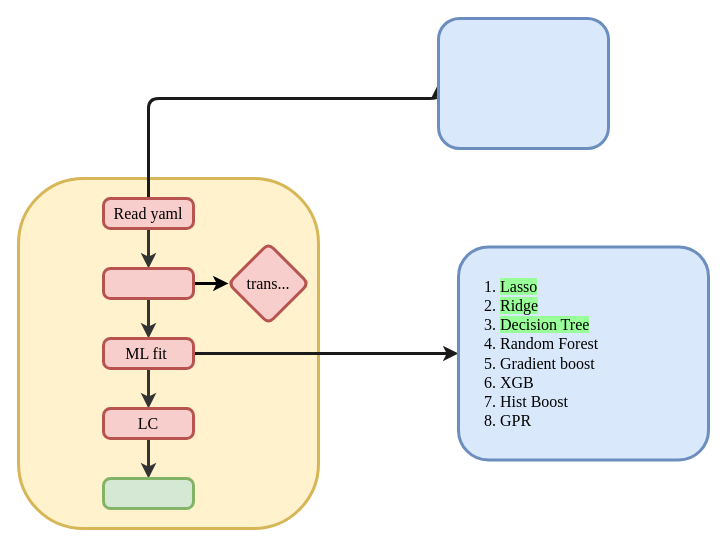
Some shapes in this 727 by 547 pixel diagram are drawn without their labels. The box of each missing label's shape, as (x1, y1, x2, y2) in pixels:
.predict: (102, 476, 194, 510)
Method Data Transformation hyperparameters output reqd??: (436, 16, 610, 150)
Read Data: (102, 266, 194, 300)
